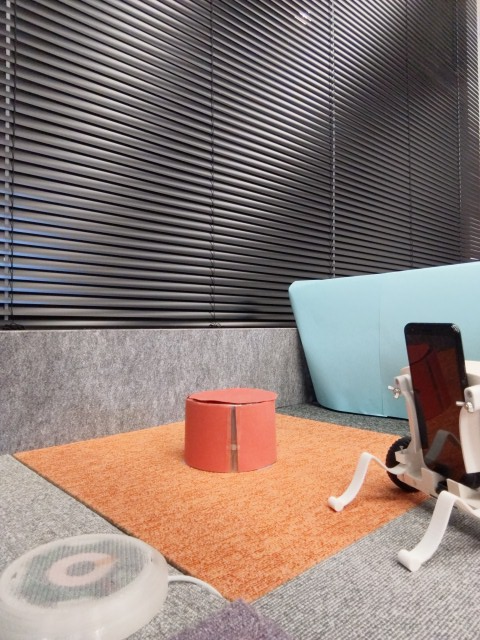bl: (327, 316, 480, 575)
o: (1, 531, 168, 640)
